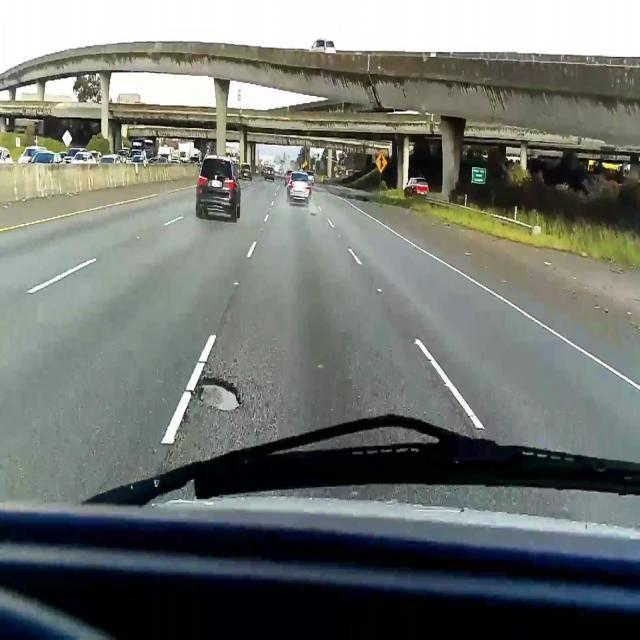Buraco: (188, 369, 246, 413)
